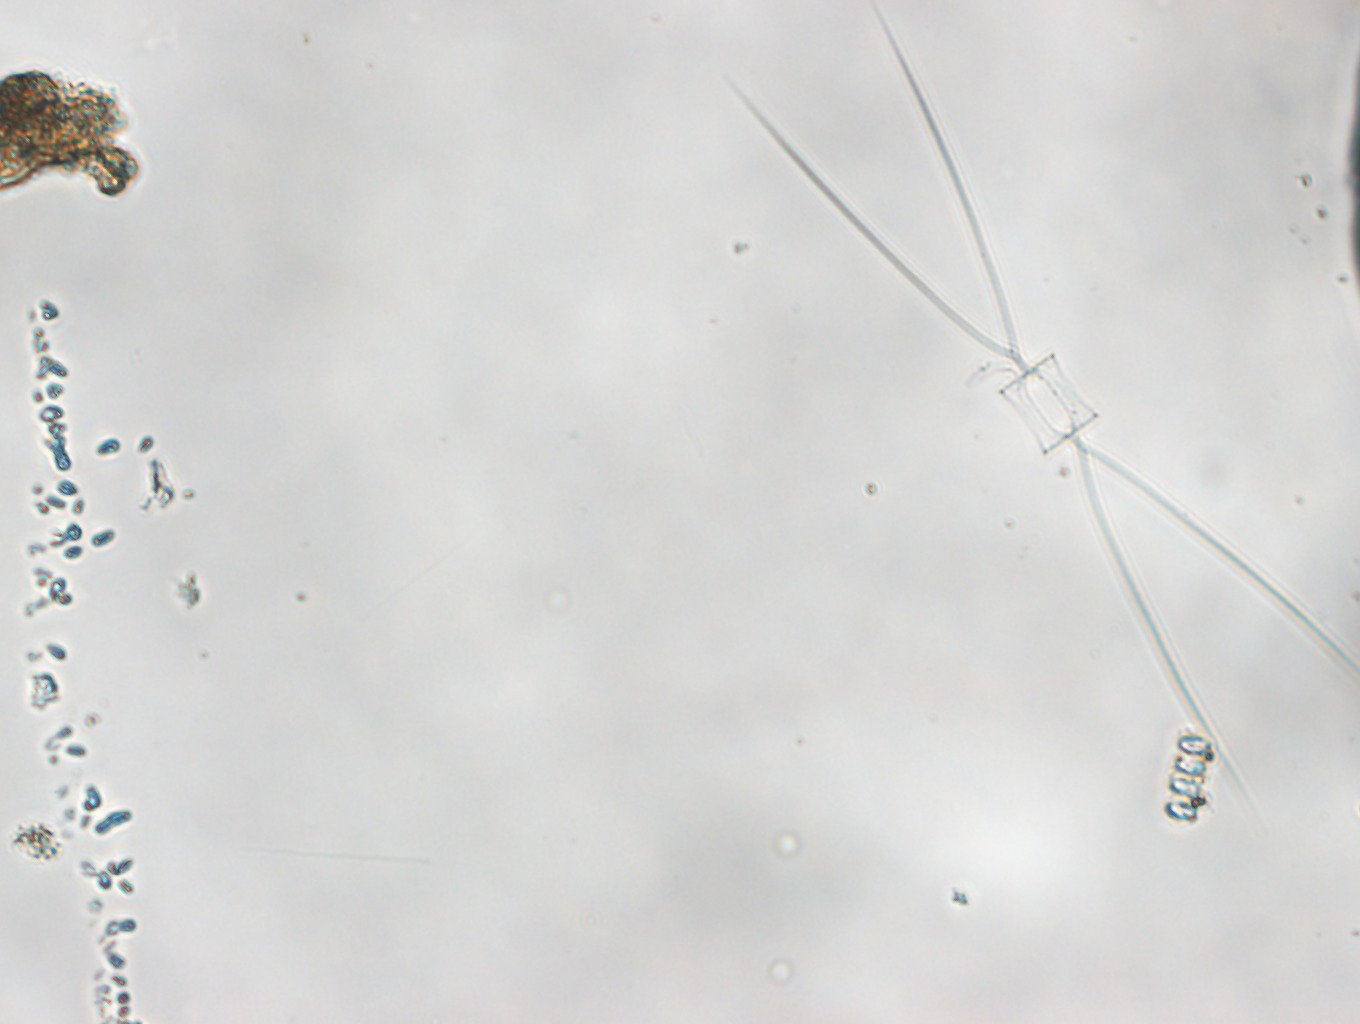chaetoceros: (718, 1, 1360, 802)
skeletonema: (1163, 733, 1211, 825)
